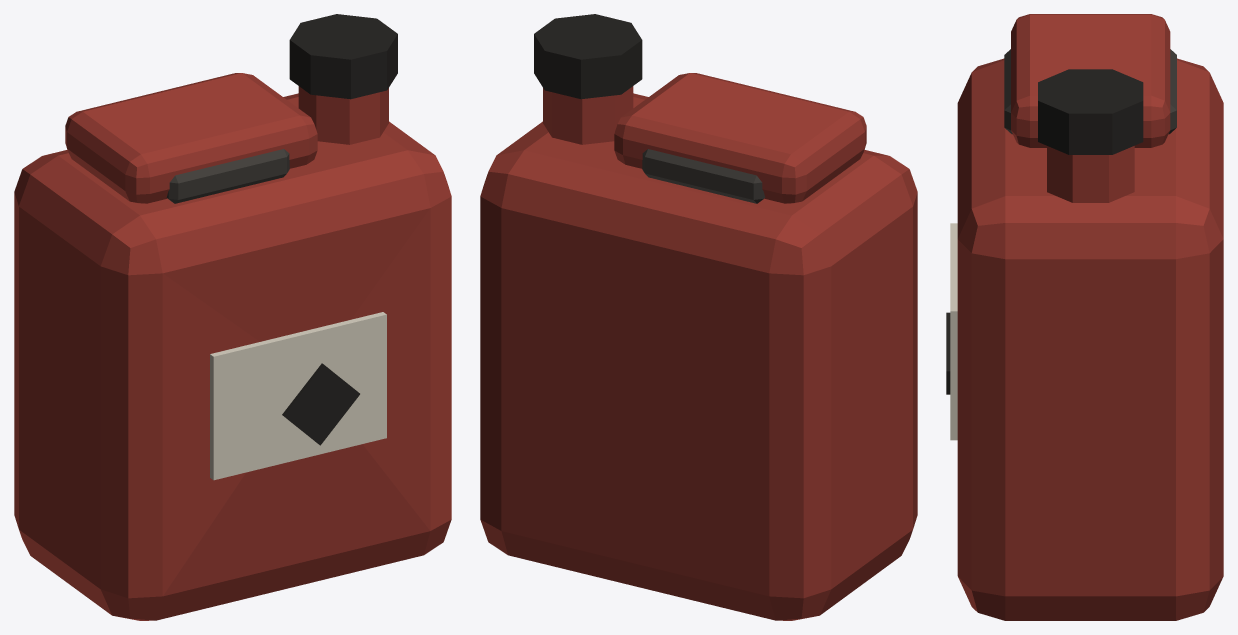
The model's file is fuel_canister_5_l_idle.glb.
3 renders of one model, left to right at view 1: azimuth 30°, elevation 25°; view 2: azimuth 150°, elevation 25°; view 3: azimuth 270°, elevation 25°, orthographic. The views are drawn at different scales.
Parts seen in each view (by area): view 1: fuel_canister_5_l_idle; view 2: fuel_canister_5_l_idle; view 3: fuel_canister_5_l_idle.
Part boxes in pixels (box(x1,y1,x2,y2)): fuel_canister_5_l_idle: box(14, 14, 451, 620); fuel_canister_5_l_idle: box(480, 14, 917, 620); fuel_canister_5_l_idle: box(946, 14, 1223, 620).
Size of the model in its own units: 0.22 by 0.3 by 0.146.
1 material, 1 textured.
